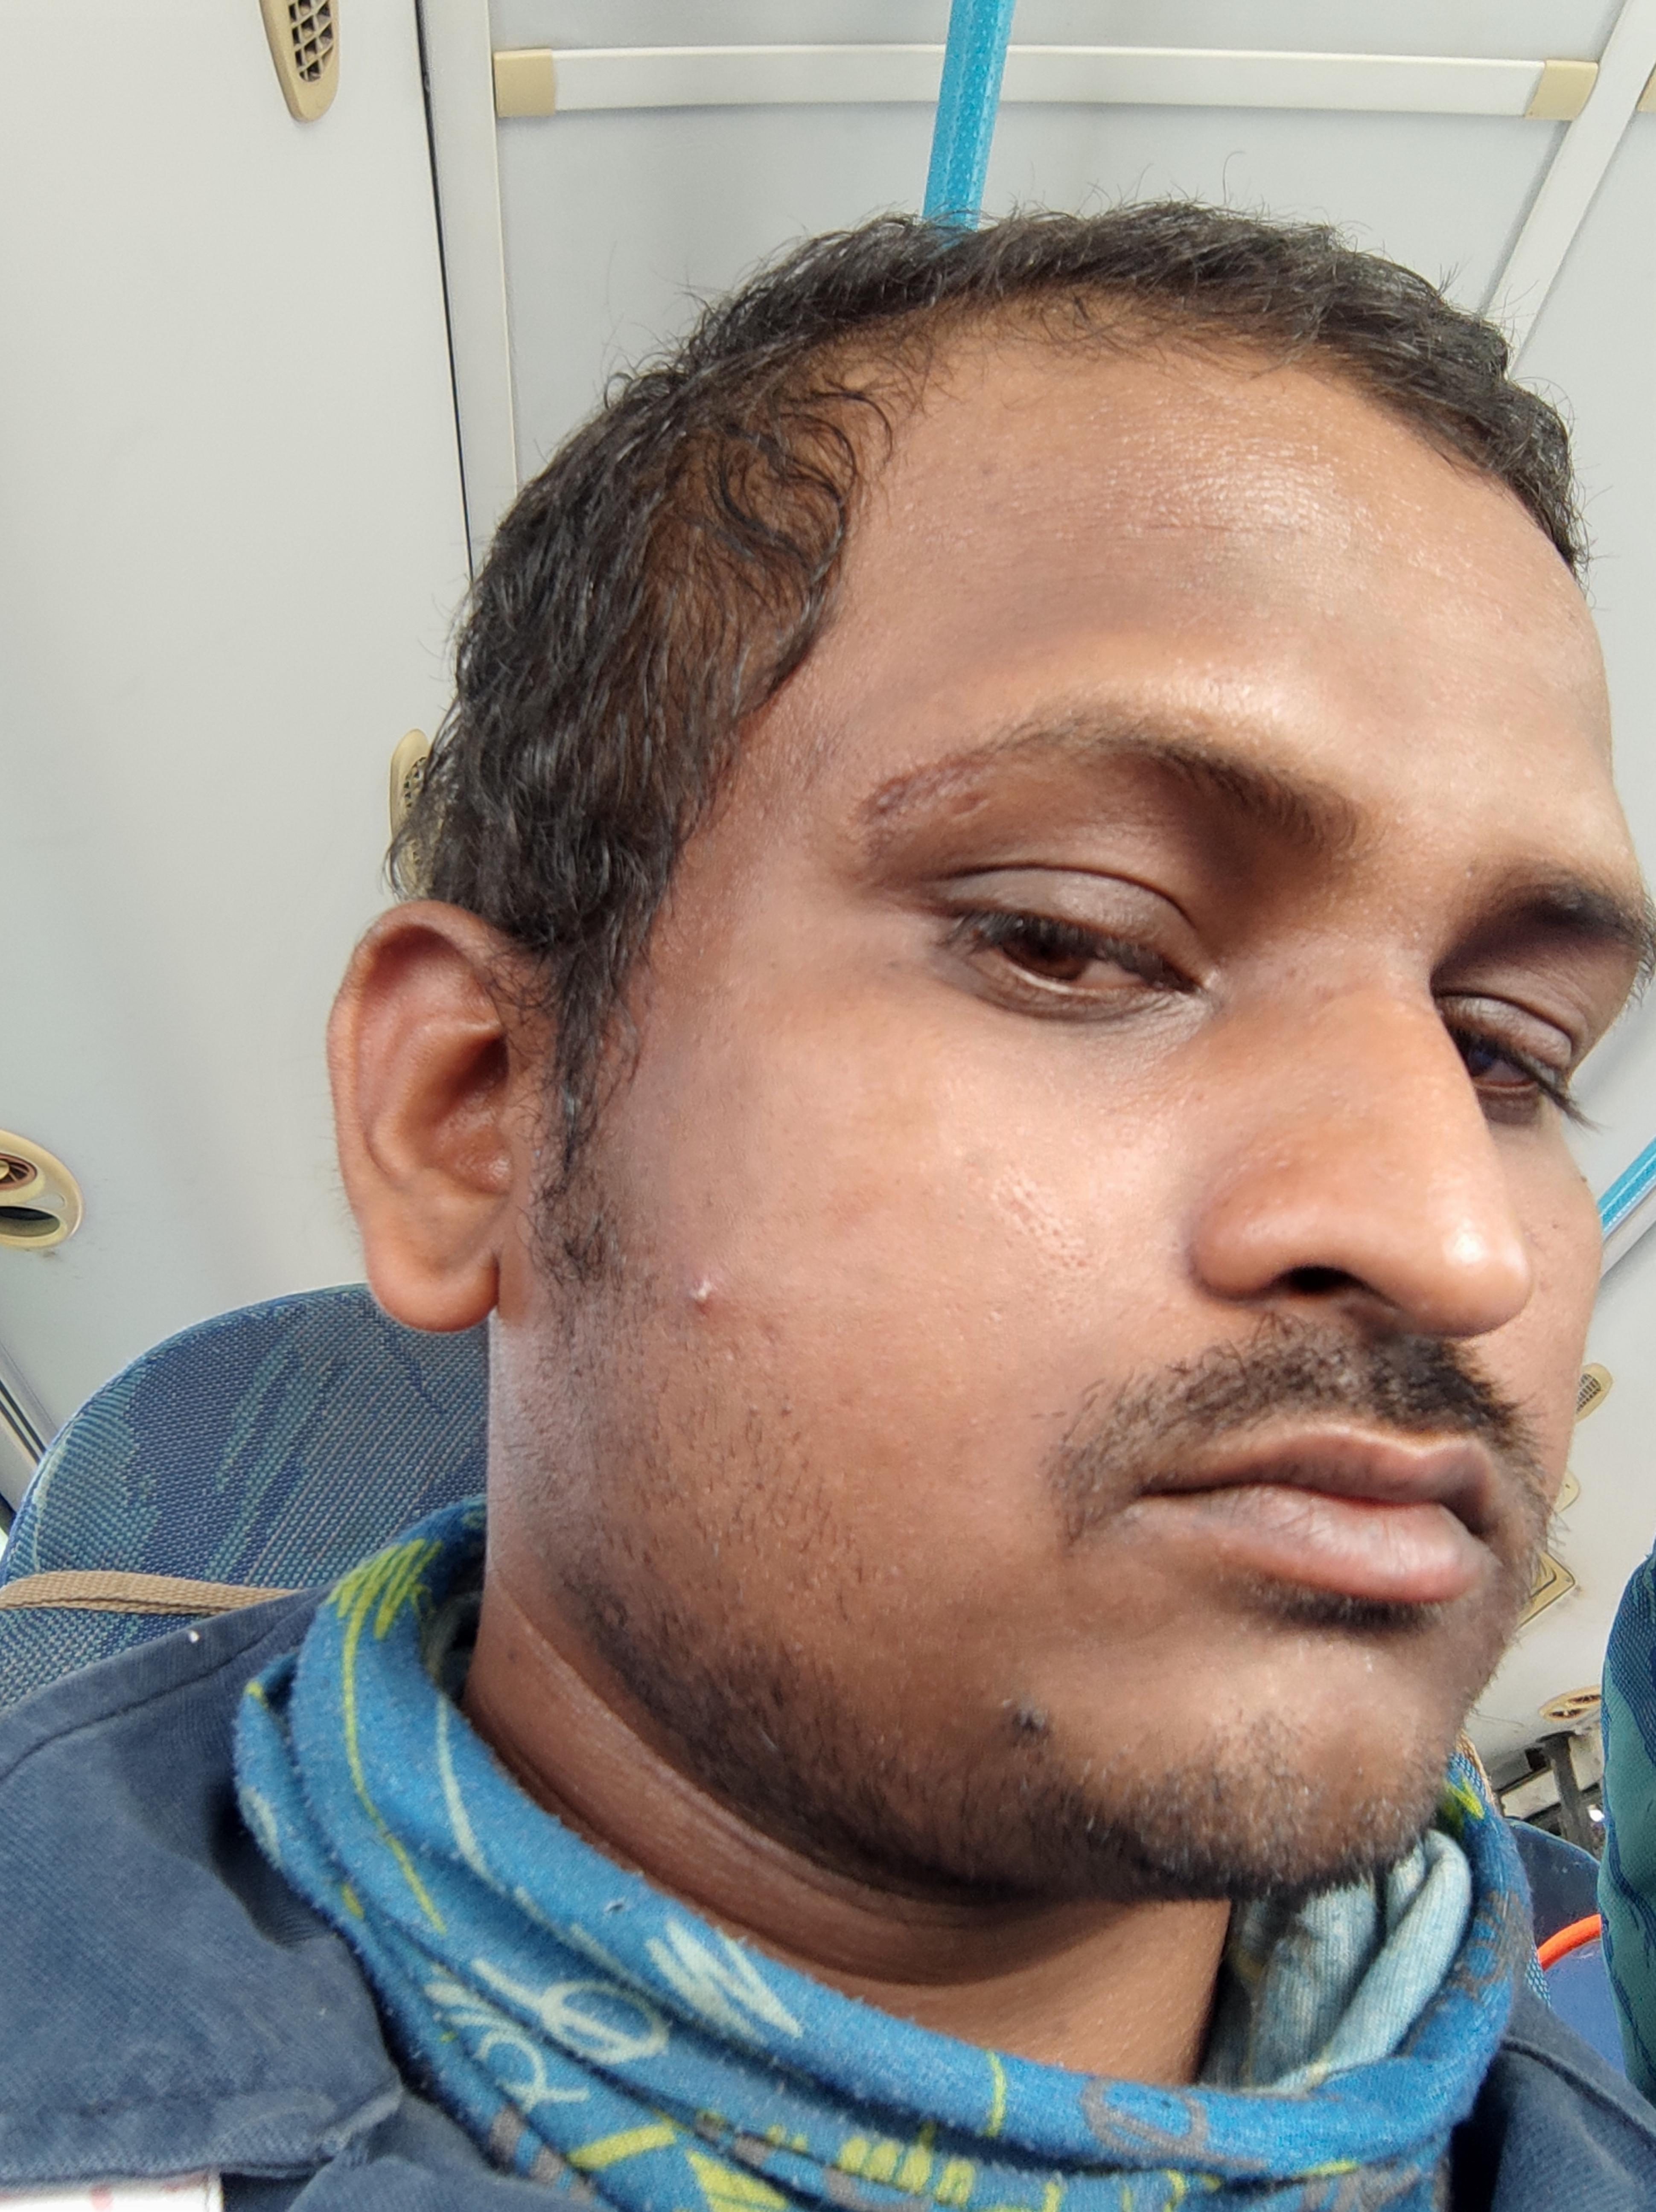Acne: (677, 1268, 724, 1315)
Englarged-Pores: (990, 1160, 1113, 1332)
Wrinkles: (1124, 503, 1508, 603), (1025, 424, 1329, 456), (943, 487, 1115, 527)
